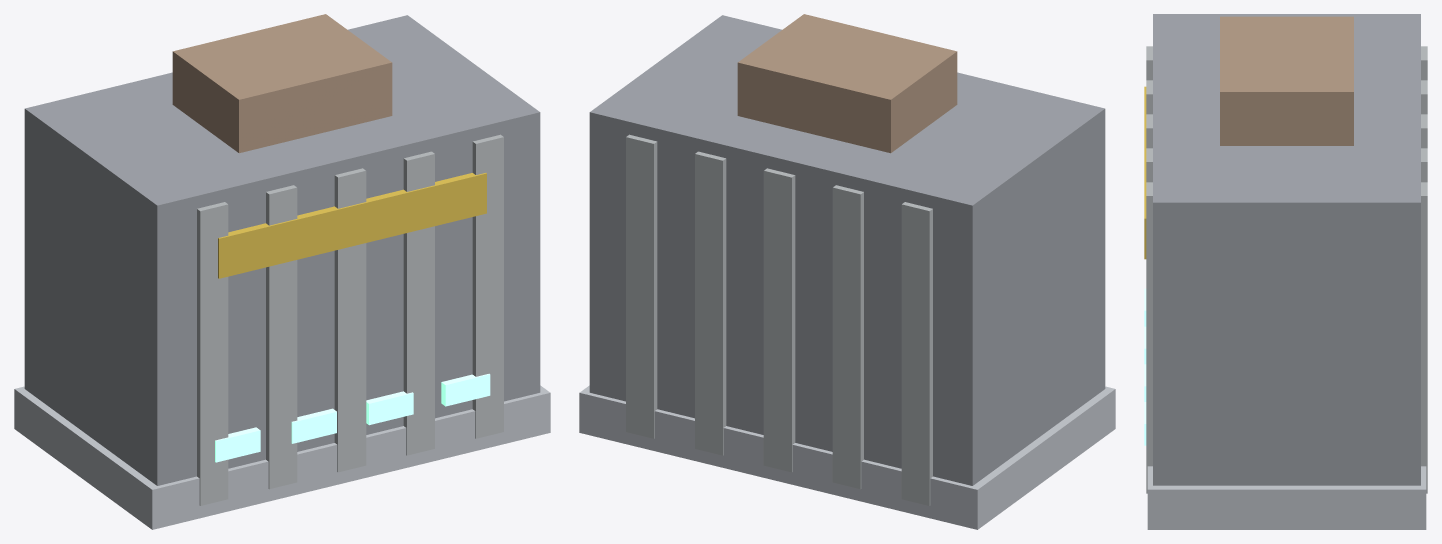
File: prop_power_cell.glb
3 renders of one model, left to right at view 1: azimuth 30°, elevation 25°; view 2: azimuth 150°, elevation 25°; view 3: azimuth 270°, elevation 25°, orthographic.
Parts seen in each view (by area): view 1: prop_power_cell; view 2: prop_power_cell; view 3: prop_power_cell.
Boxes of the visible parts, left/top/right/bottom form: prop_power_cell: left=14, top=14, right=550, bottom=529; prop_power_cell: left=579, top=14, right=1115, bottom=529; prop_power_cell: left=1144, top=14, right=1427, bottom=529.
Size of the model in its own units: 0.312 by 0.28 by 0.1903.
